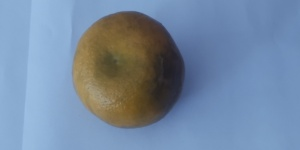BAD: (70, 9, 186, 129)
